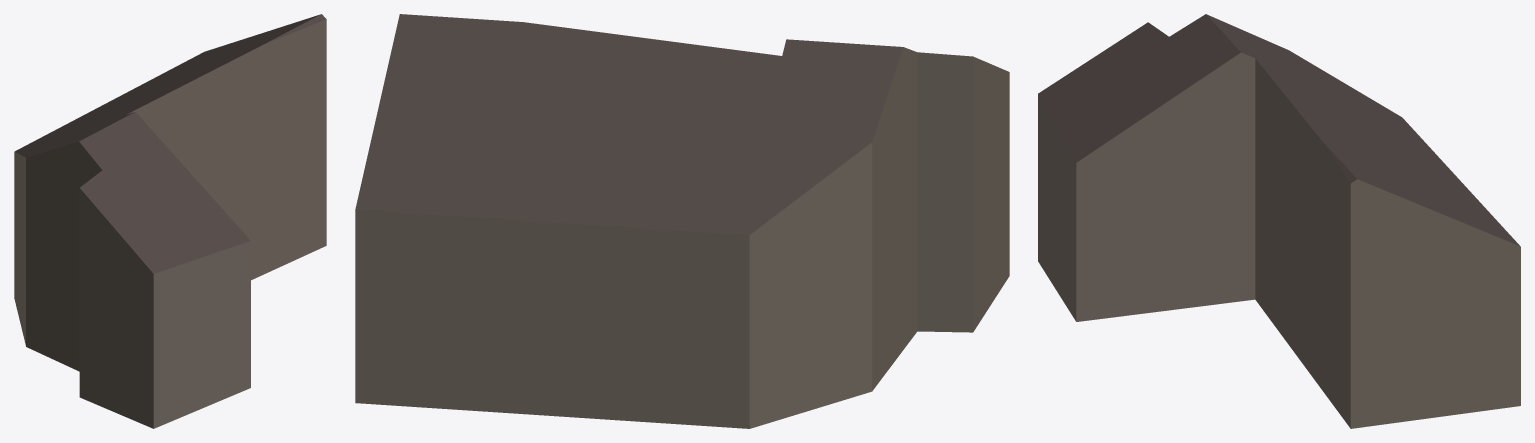
3 renders of one model, left to right at view 1: azimuth 30°, elevation 25°; view 2: azimuth 150°, elevation 25°; view 3: azimuth 270°, elevation 25°, orthographic. The views are drawn at different scales.
Parts seen in each view (by area): view 1: HP-w1198847847; view 2: HP-w1198847847; view 3: HP-w1198847847.
Part boxes in pixels (box(x1,y1,x2,y2)): HP-w1198847847: box(14, 14, 326, 428); HP-w1198847847: box(355, 14, 1009, 428); HP-w1198847847: box(1038, 14, 1520, 428).
Size of the model in its own units: 14.53 by 9.38 by 16.49.
